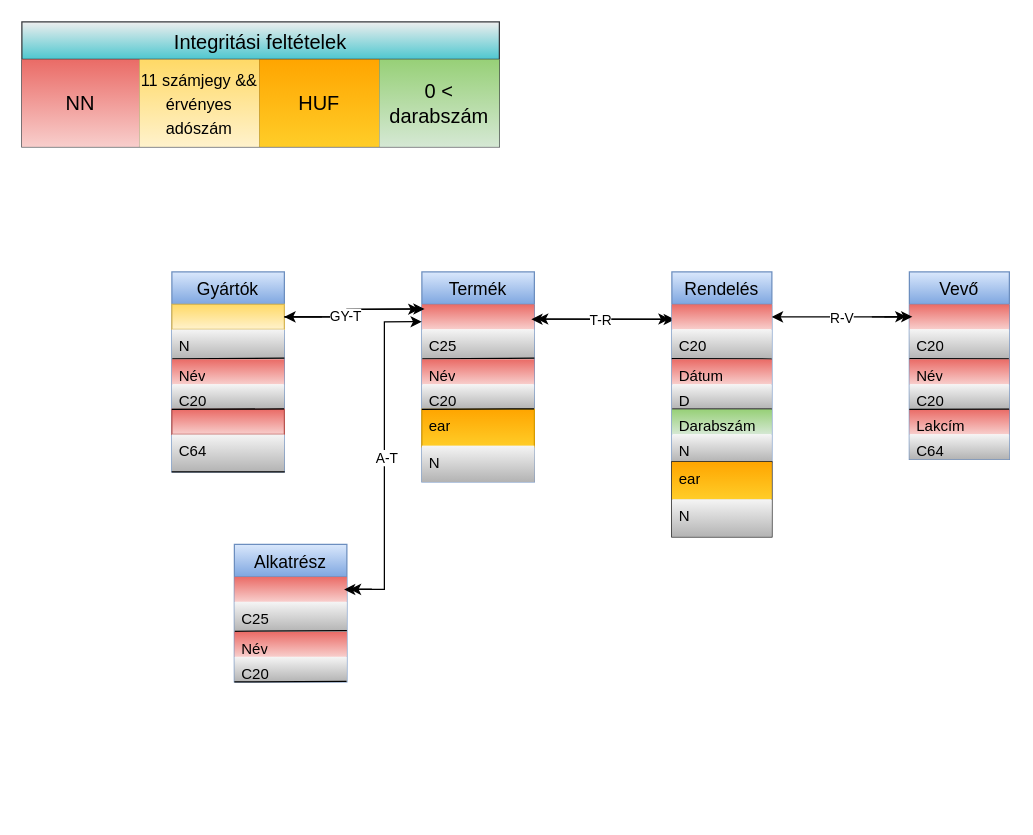
The diagram is 1033 pixels wide and 835 high, and some of its shapes have lost their labels. Here are the shapes that lost their labels. From the top down, the centre of each, then its label:
At (227,316): "Adószám".
At (477,316): "TKód".
At (721,316): "RKód".
At (959,316): "VKód".
At (227,421): "Telephely".
At (290,588): "AKód".
